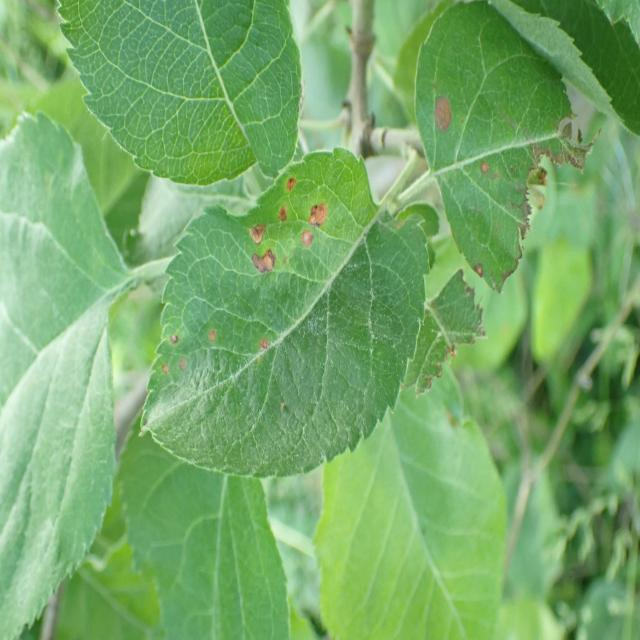frog-eye-leaf-spot: (137, 146, 430, 482), (413, 1, 587, 295), (54, 1, 305, 189)
